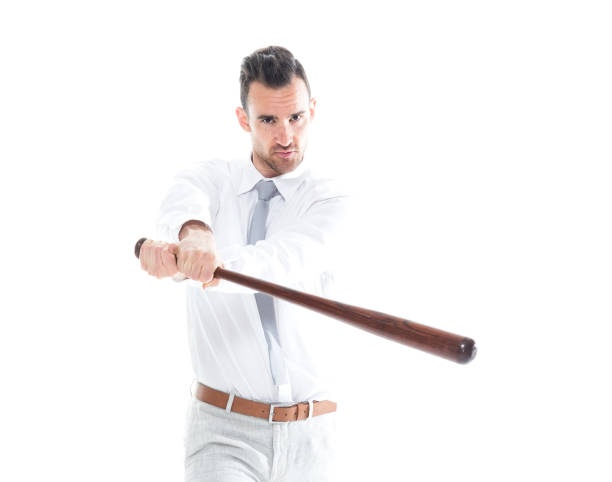bita: (158, 239, 473, 363)
